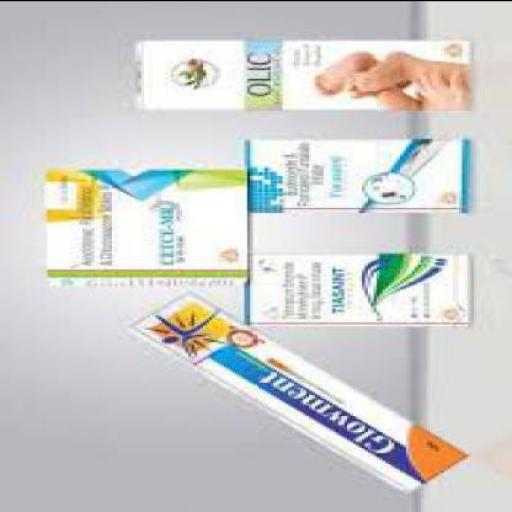cardboard: (124, 293, 468, 495), (40, 170, 248, 288), (132, 40, 474, 111), (242, 139, 471, 215), (238, 254, 471, 327)
